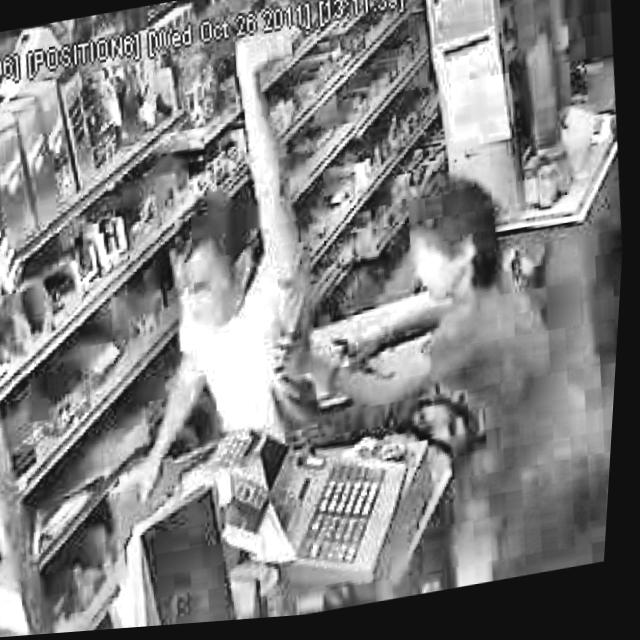robbery: (64, 20, 376, 520)
